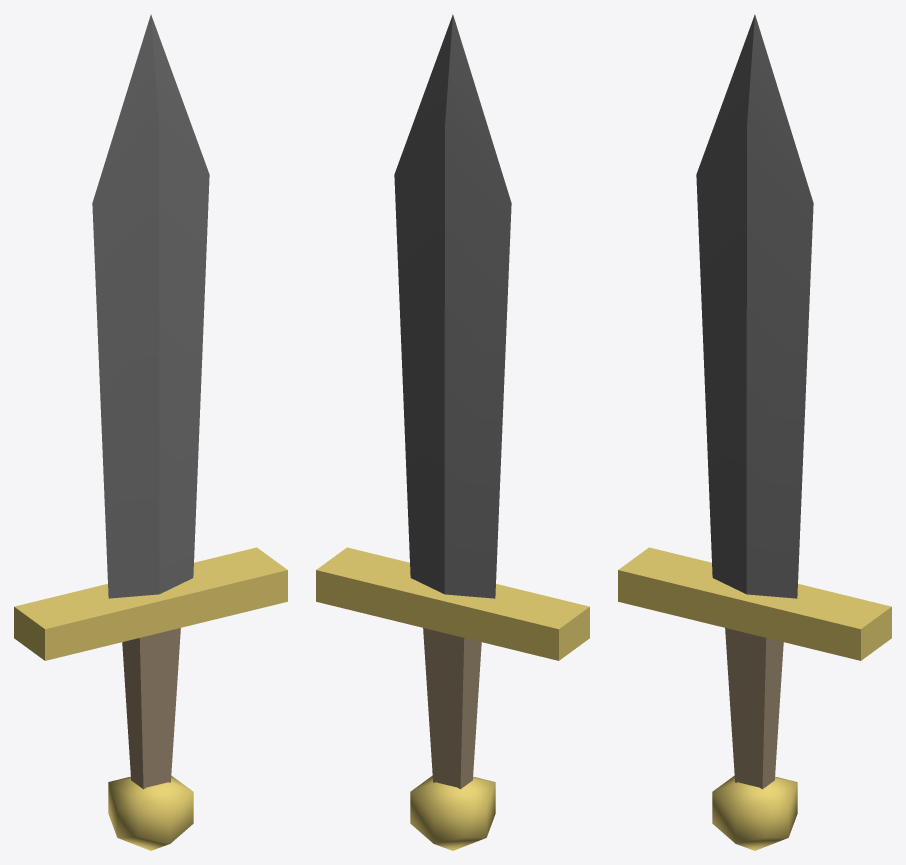
Rendered from Sword_MESH.fbx.
3 views of the same model, side by side, from view 1: azimuth 30°, elevation 25°; view 2: azimuth 150°, elevation 25°; view 3: azimuth 330°, elevation 25° (orthographic).
Parts seen in each view (by area): view 1: pCube3, pCube1, pCube2, pPyramid1; view 2: pCube3, pCube1, pCube2, pPyramid1; view 3: pCube3, pCube1, pCube2, pPyramid1.
Boxes of the visible parts, x1=… form: pCube3: x1=92, y1=14, x2=209, y2=598; pCube1: x1=14, y1=547, x2=287, y2=660; pCube2: x1=122, y1=628, x2=180, y2=789; pPyramid1: x1=108, y1=775, x2=193, y2=850; pCube3: x1=394, y1=14, x2=511, y2=598; pCube1: x1=316, y1=547, x2=589, y2=660; pCube2: x1=423, y1=628, x2=481, y2=789; pPyramid1: x1=410, y1=775, x2=495, y2=850; pCube3: x1=696, y1=14, x2=813, y2=598; pCube1: x1=618, y1=547, x2=891, y2=660; pCube2: x1=725, y1=628, x2=783, y2=789; pPyramid1: x1=712, y1=775, x2=797, y2=850.
Bounding box in the file's own units: 36.81 × 121 × 10.22.
